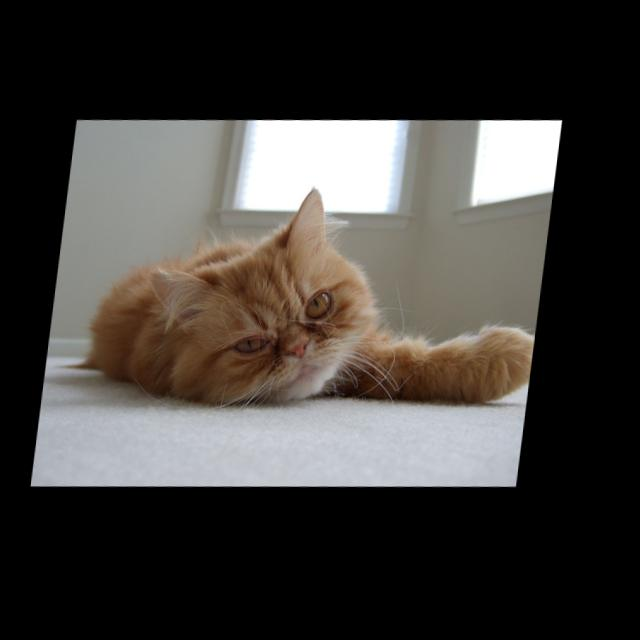animals: (147, 186, 340, 366)
